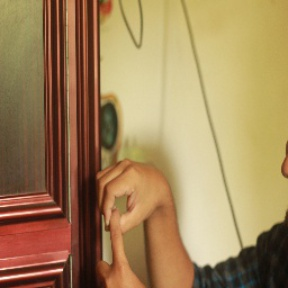Q: (86, 154, 185, 288)
